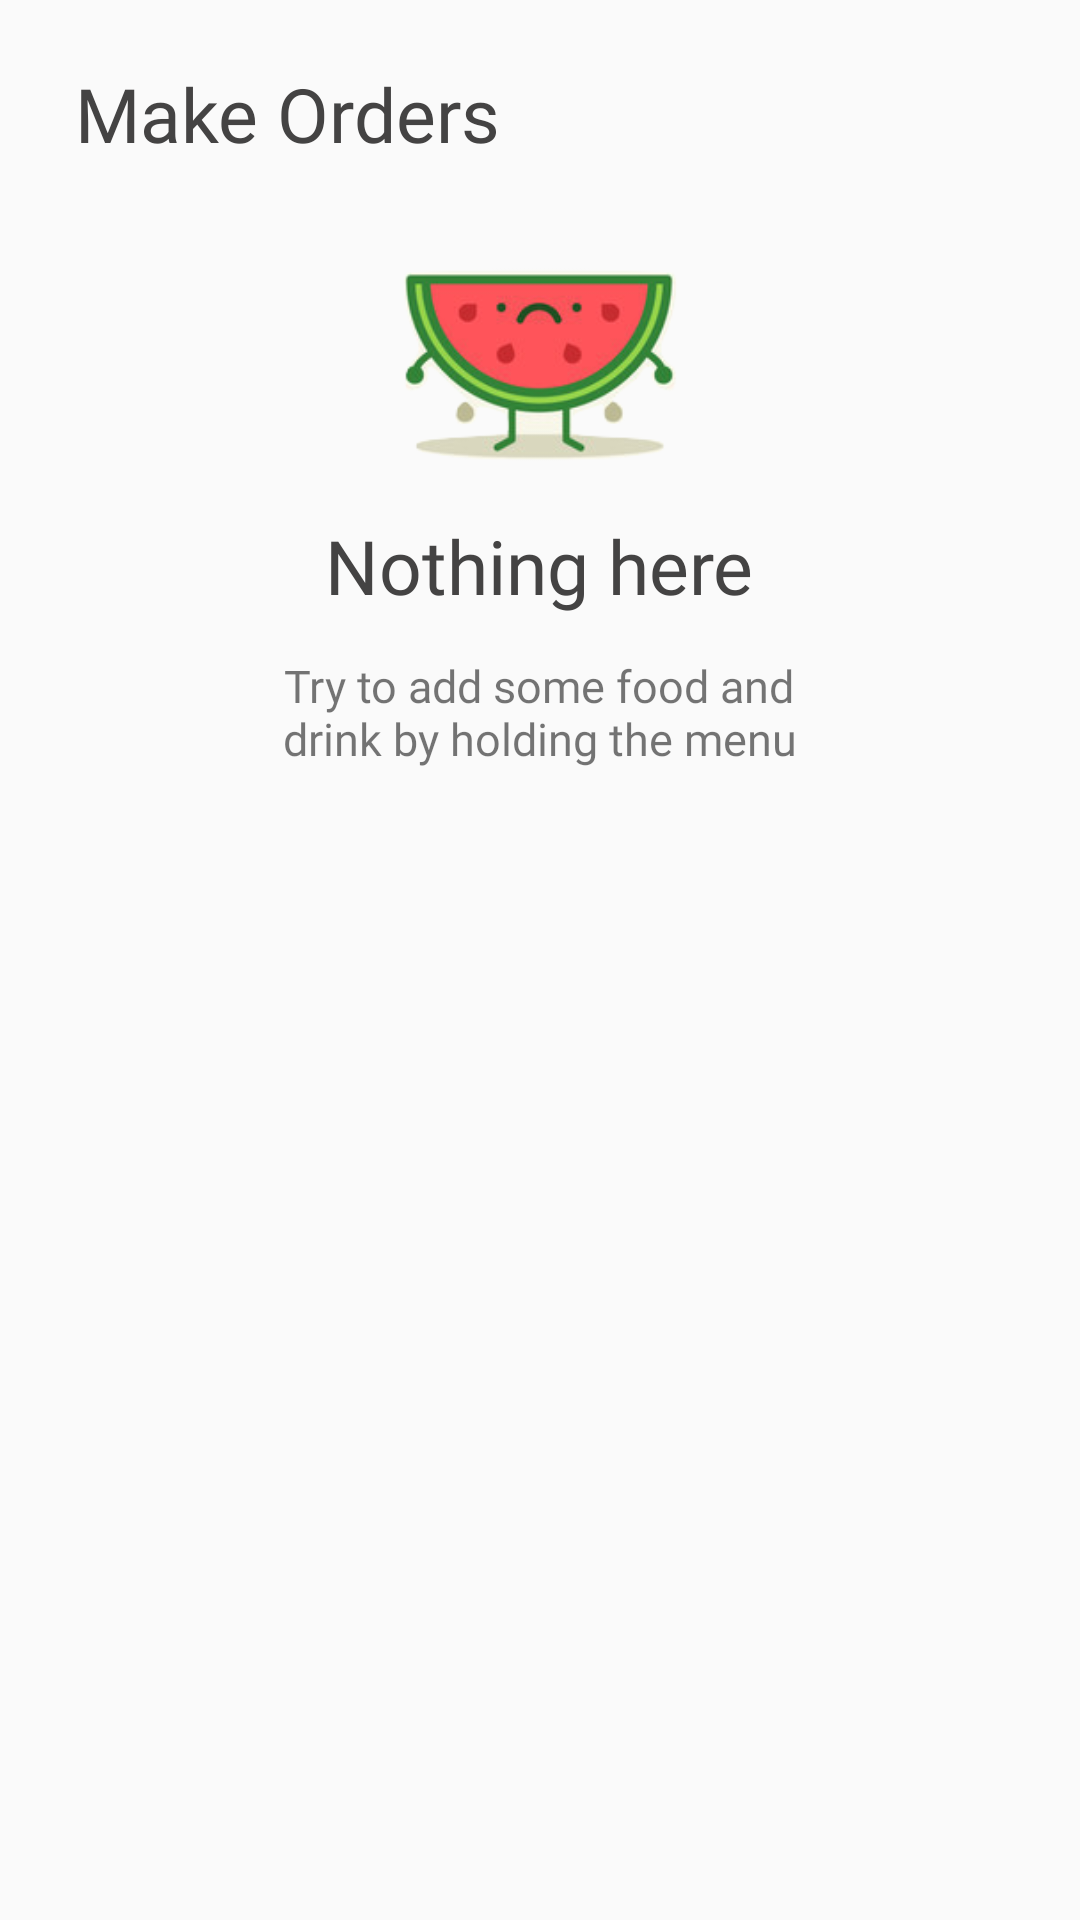

Icons on this 1080px×1920px Android screen, each with the point to tap as (x=x, y=y):
sad watermelon: (x=539, y=366)
